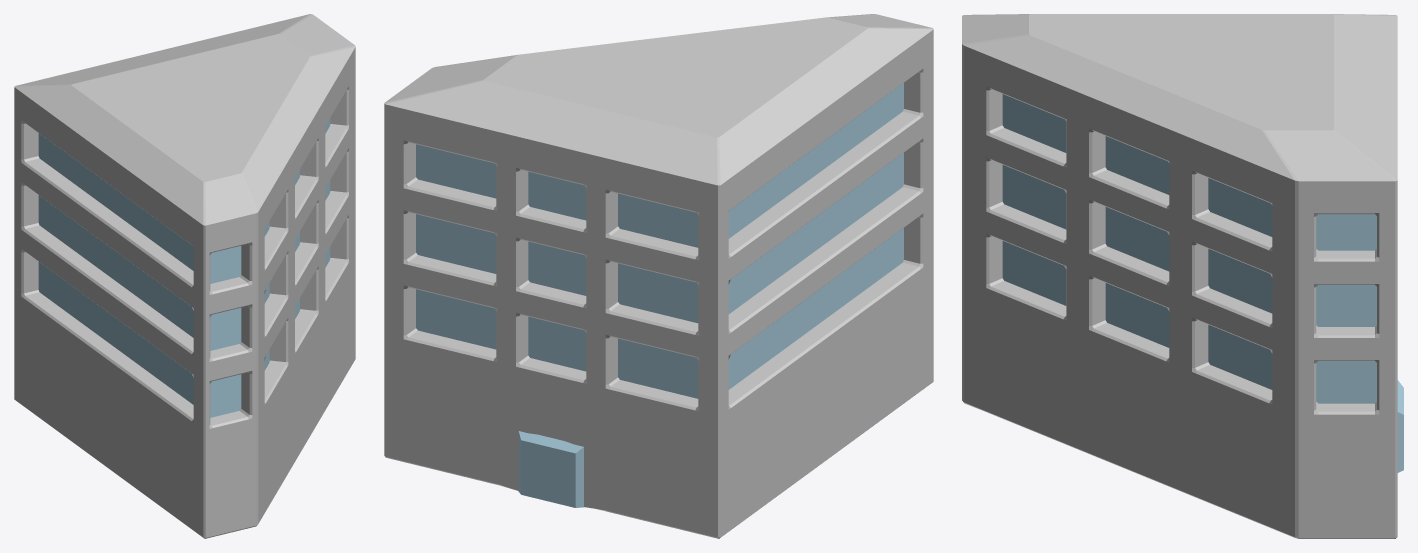
The model's file is building_017.fbx.
3 views of the same model, side by side, from view 1: azimuth 30°, elevation 25°; view 2: azimuth 150°, elevation 25°; view 3: azimuth 270°, elevation 25° (orthographic). The views are drawn at different scales.
Visible parts, largest first — view 1: Cube.029, Cube.030; view 2: Cube.029, Cube.030, Cube.031; view 3: Cube.029, Cube.030, Cube.031.
Boxes of the visible parts, x1,y1,x2,y2 form: Cube.029: (14, 14, 355, 538); Cube.030: (38, 118, 330, 417); Cube.029: (384, 14, 933, 538); Cube.030: (416, 83, 903, 398); Cube.031: (518, 431, 584, 507); Cube.029: (962, 14, 1397, 538); Cube.030: (1002, 94, 1376, 403); Cube.031: (1397, 380, 1403, 472).
Bounding box in the file's own units: 2803 × 2954 × 3148.
